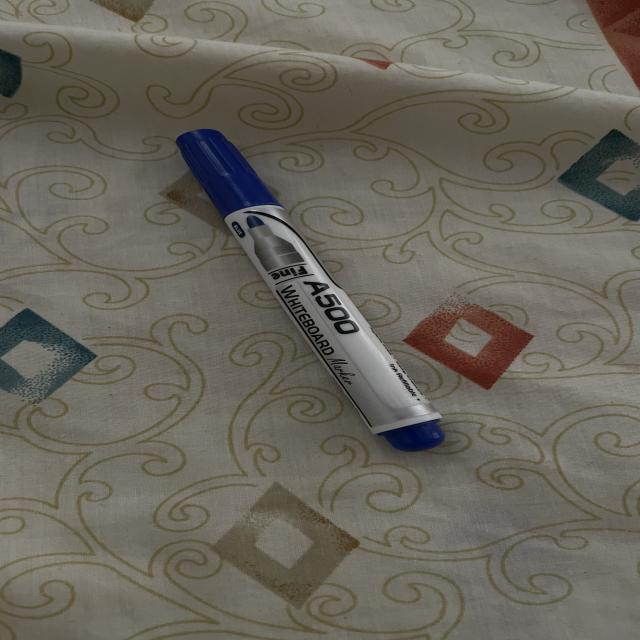marker: (176, 129, 443, 451)
